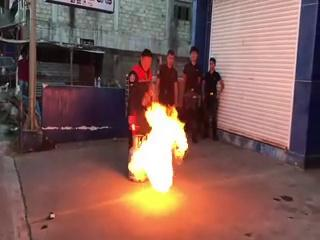Fire: (127, 102, 187, 193)
